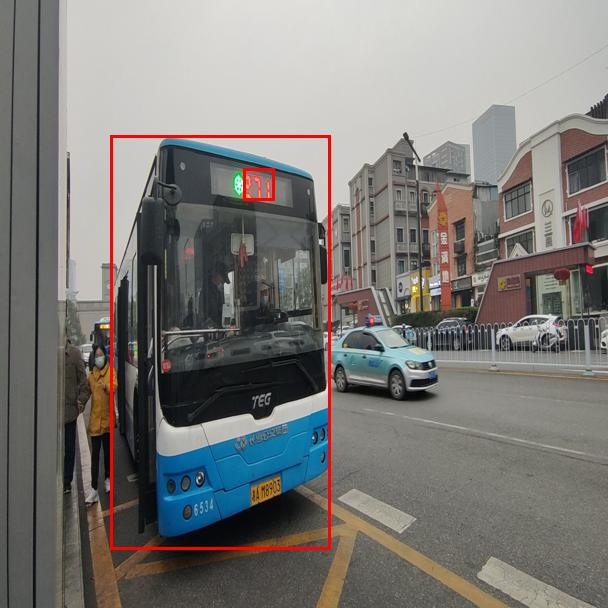bus: (110, 135, 330, 549)
screen: (243, 168, 274, 200)
